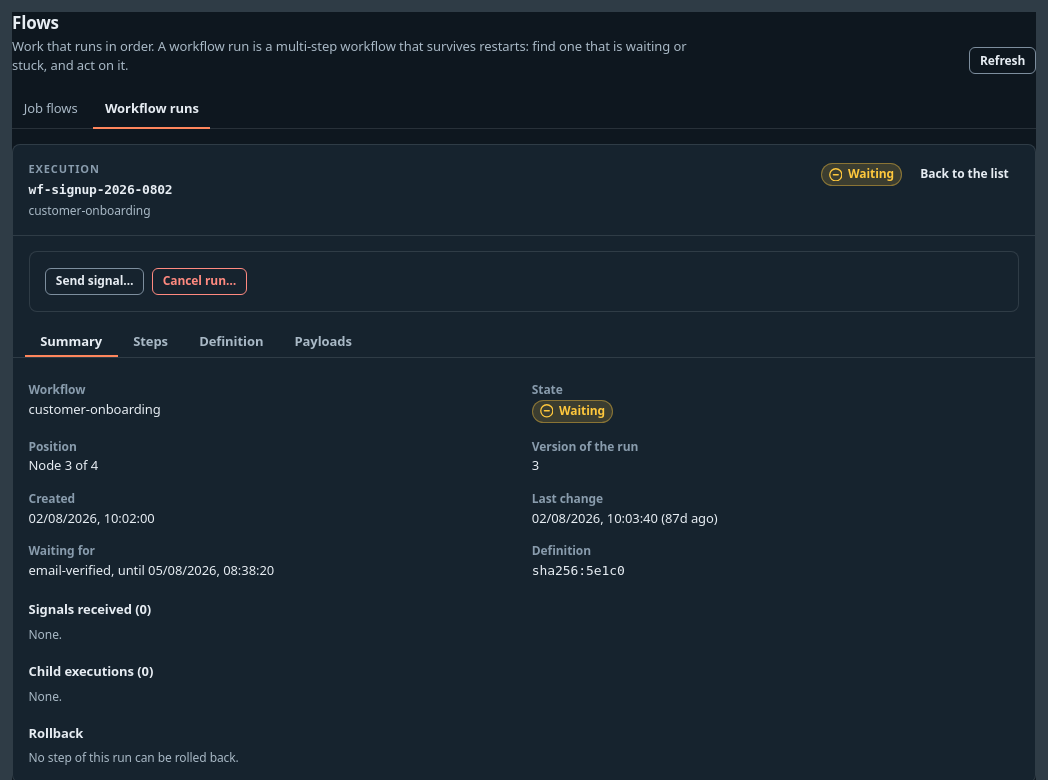
it: workflow actions: signal › sends the awaited event at the version shown, then shows the run moving on
Click the button "Send signal…": [95, 281] box x1=45 y1=268 x2=144 y2=295
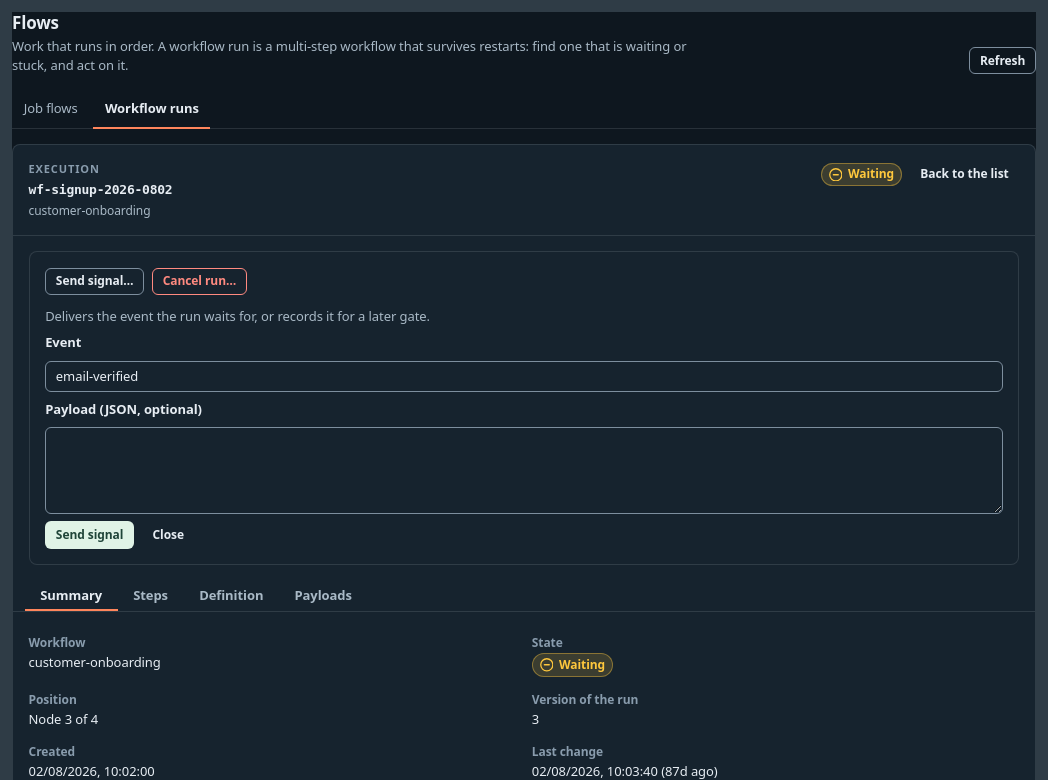
Result: the field named "signal-event" holds "email-verified" at x1=45 y1=361 x2=1003 y2=392
Submit the form, box x1=45 y1=307 x2=1003 y2=549
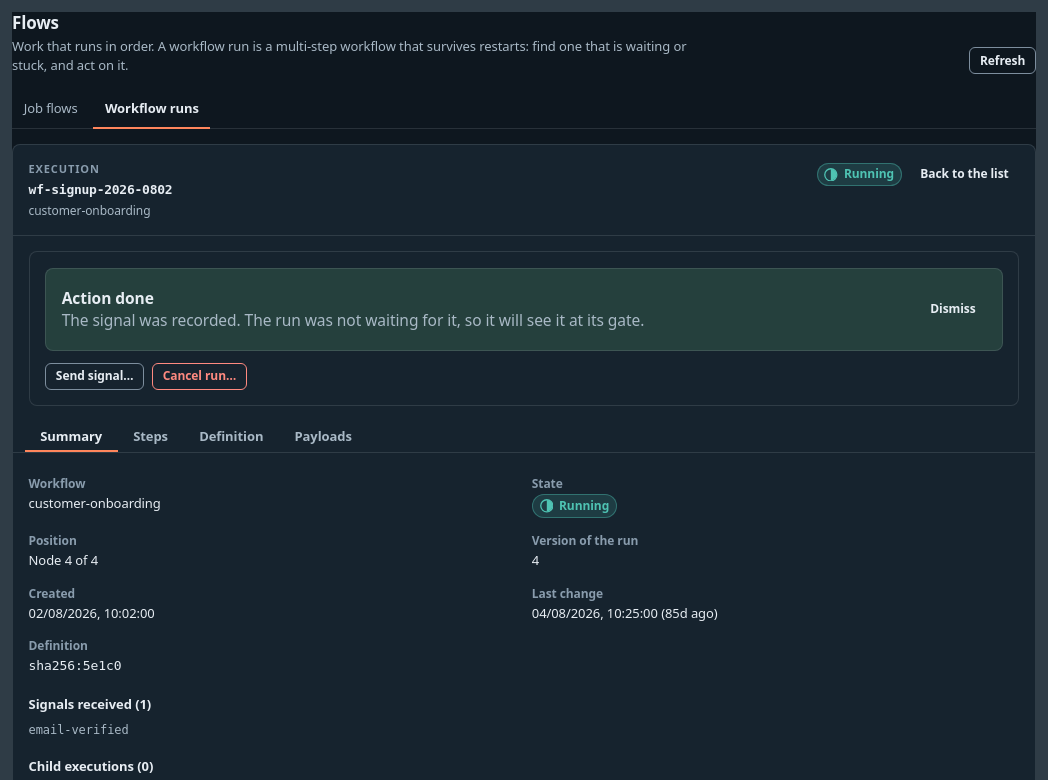
Result: the text "The signal was recorded" is shown at x1=62 y1=309 x2=644 y2=331
